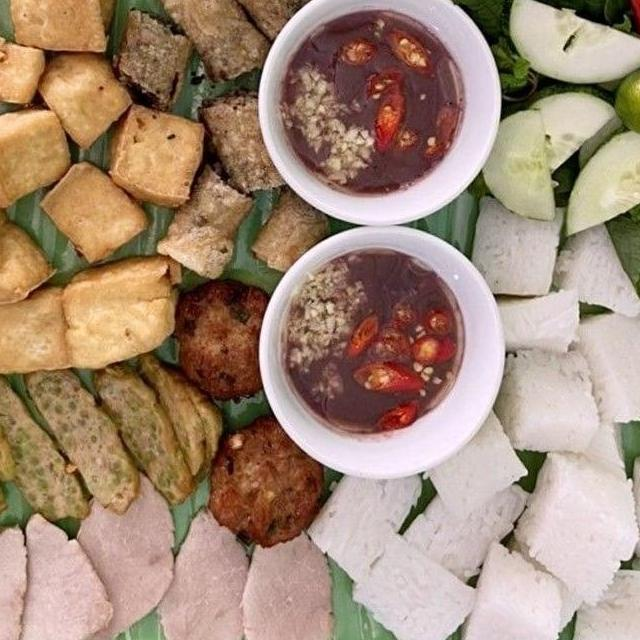bun: (294, 398, 538, 640), (509, 441, 640, 618), (459, 172, 575, 312), (493, 334, 609, 462), (444, 534, 576, 640), (546, 206, 640, 319), (565, 289, 640, 430), (482, 276, 586, 366), (553, 551, 640, 640), (617, 443, 640, 562)
bun dau: (0, 16, 640, 640)
cha com: (0, 331, 227, 526), (206, 416, 330, 549), (164, 270, 280, 404)
cha gio: (152, 0, 331, 86), (150, 145, 259, 278), (190, 80, 293, 198), (110, 1, 207, 119), (242, 175, 338, 280)
dau hu: (48, 242, 189, 379), (35, 151, 156, 266), (0, 97, 79, 214), (0, 158, 61, 305), (0, 0, 127, 60), (0, 19, 60, 110)
thit heo: (56, 458, 189, 640), (149, 493, 259, 640), (7, 506, 117, 640), (232, 512, 345, 640), (0, 520, 37, 640)
